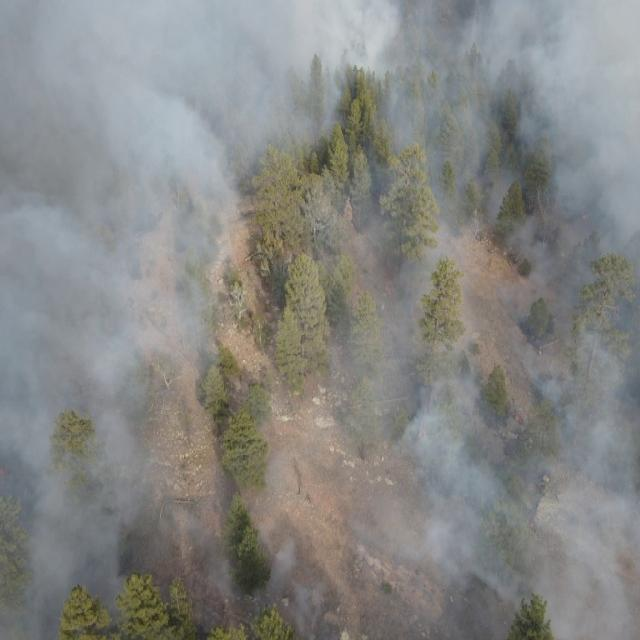fire: (505, 408, 531, 432), (0, 459, 12, 486)
smoke: (255, 246, 640, 640), (0, 157, 252, 640), (1, 0, 640, 156), (318, 158, 640, 244)
